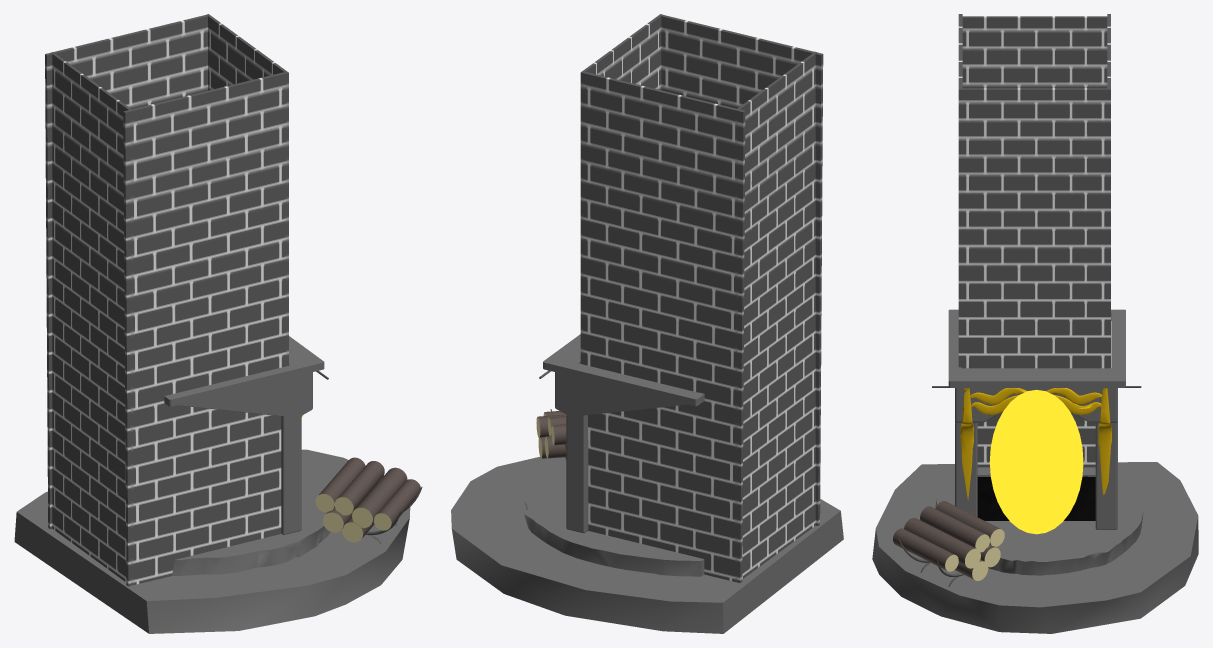
File: Optimized Fireplace 3.fbx
3 views of the same model, side by side, from view 1: azimuth 30°, elevation 25°; view 2: azimuth 150°, elevation 25°; view 3: azimuth 270°, elevation 25° (orthographic). The views are drawn at different scales.
Visible parts, largest first — view 1: Cube, Cube.001, Model.002, Cube.009, Model.001, Cube.003, Cylinder.013, Cylinder.011, Cylinder.009, Cylinder.014; view 2: Cube, Cube.001, Model.002, Cube.009, Model.001, Cube.003; view 3: Cube.003, Model.002, Cube.001, Circle.004, Cube.009, Model.001, NurbsPath.003, Cube.010, Cylinder.013, Cylinder.011, Cylinder.009, Cylinder.014 (+3 smaller).
Boxes of the visible parts, left/top/right/bottom form: Cube: left=45, top=15, right=286, bottom=586; Cube.001: left=51, top=52, right=133, bottom=585; Model.002: left=14, top=449, right=410, bottom=633; Cube.009: left=164, top=336, right=324, bottom=534; Model.001: left=172, top=470, right=330, bottom=576; Cube.003: left=206, top=14, right=288, bottom=366; Cylinder.013: left=352, top=467, right=407, bottom=527; Cylinder.011: left=334, top=461, right=384, bottom=515; Cylinder.009: left=373, top=479, right=420, bottom=530; Cylinder.014: left=315, top=457, right=365, bottom=512; Cube: left=583, top=15, right=823, bottom=582; Cube.001: left=735, top=51, right=817, bottom=582; Model.002: left=451, top=457, right=843, bottom=633; Cube.009: left=543, top=334, right=704, bottom=533; Model.001: left=524, top=469, right=704, bottom=576; Cube.003: left=580, top=14, right=662, bottom=364; Cube.003: left=958, top=88, right=1110, bottom=368; Model.002: left=872, top=462, right=1198, bottom=633; Cube.001: left=958, top=16, right=1110, bottom=467; Circle.004: left=989, top=389, right=1083, bottom=534; Cube.009: left=948, top=309, right=1125, bottom=529; Model.001: left=934, top=467, right=1143, bottom=575; NurbsPath.003: left=960, top=388, right=1111, bottom=500; Cube.010: left=977, top=476, right=1095, bottom=520; Cylinder.013: left=904, top=518, right=980, bottom=568; Cylinder.011: left=920, top=506, right=989, bottom=552; Cylinder.009: left=893, top=528, right=958, bottom=571; Cylinder.014: left=935, top=501, right=1004, bottom=546.
Bounding box in the file's own units: 387 × 590 × 364.
10 materials, 3 textured.
